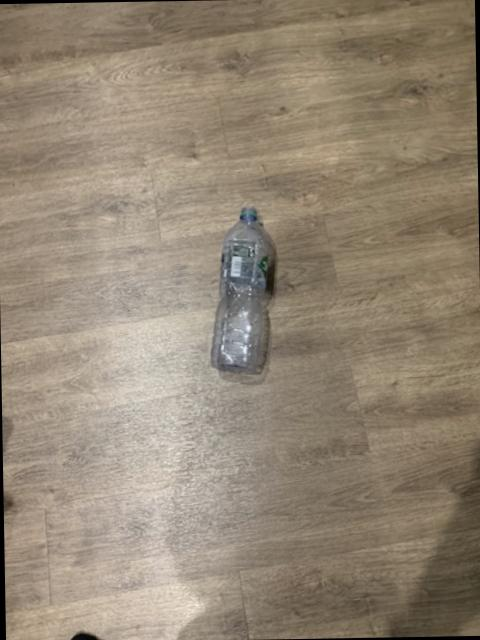plastic: (213, 205, 276, 371)
